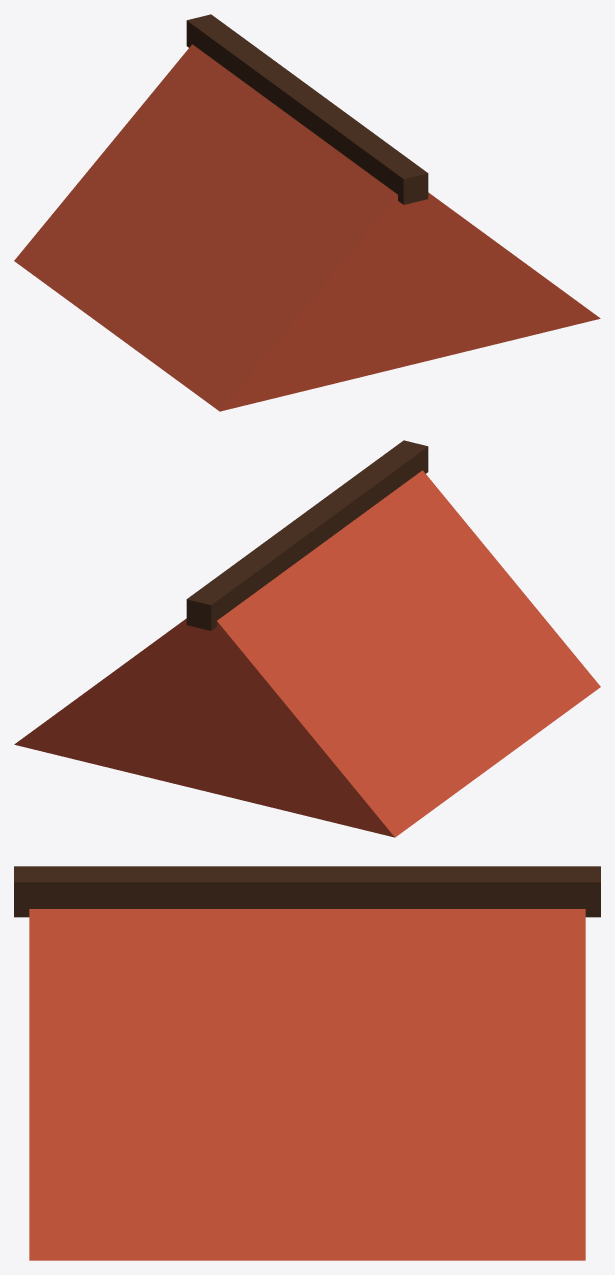
File: roof_gable.glb
3 views of the same model, one above another, from view 1: azimuth 30°, elevation 25°; view 2: azimuth 150°, elevation 25°; view 3: azimuth 270°, elevation 25° (orthographic). The views are drawn at different scales.
Visible parts, largest first — view 1: roof_body, roof_ridge; view 2: roof_body, roof_ridge; view 3: roof_body, roof_ridge.
Part boxes in pixels (left/top/right/bottom): roof_body: left=14, top=44, right=600, bottom=411; roof_ridge: left=186, top=14, right=428, bottom=204; roof_body: left=14, top=470, right=600, bottom=837; roof_ridge: left=186, top=440, right=428, bottom=630; roof_body: left=29, top=909, right=585, bottom=1260; roof_ridge: left=14, top=866, right=600, bottom=917.
Bounding box in the file's own units: 1.55 × 0.75 × 1.53.
